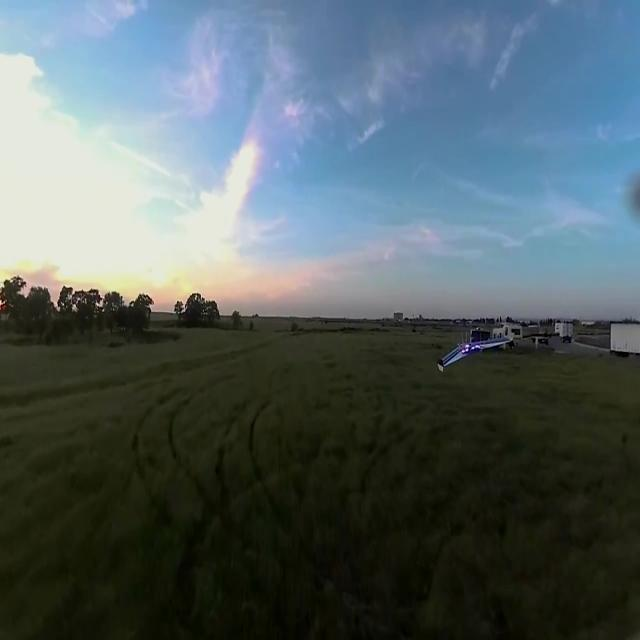iha: (467, 333, 483, 372)
